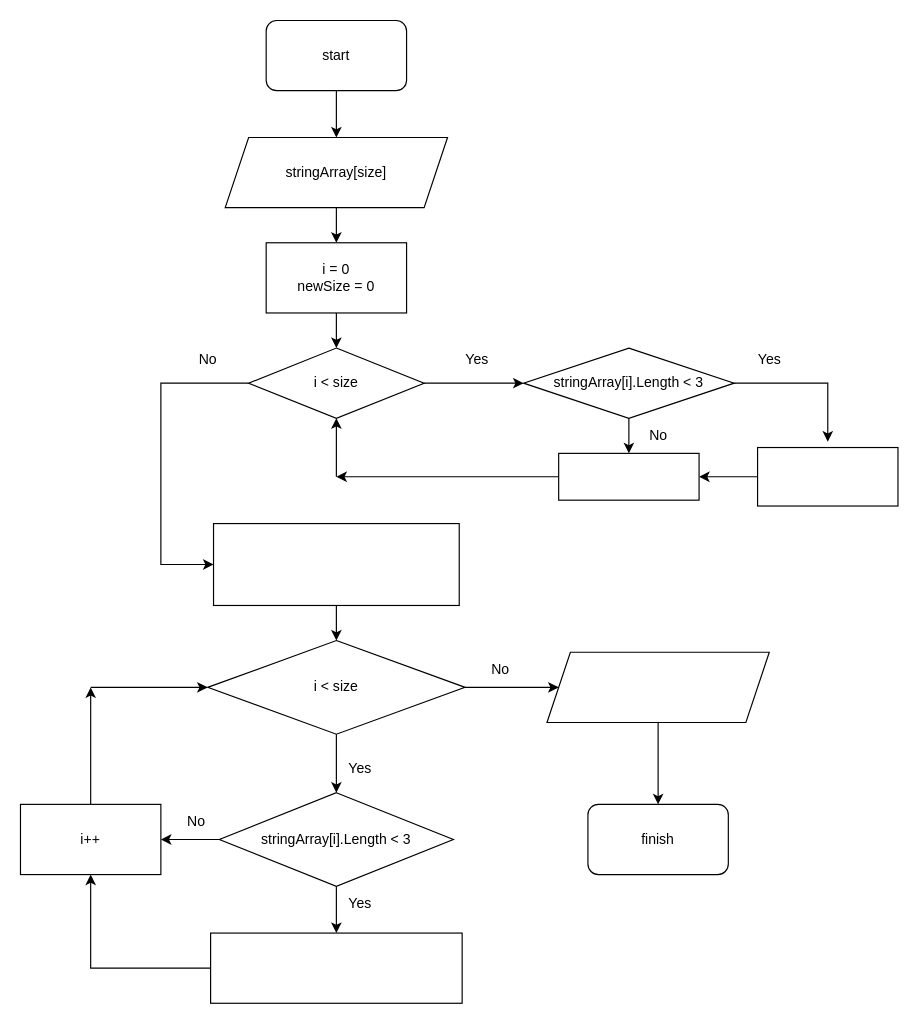
Some shapes in this 918 by 1024 pixel diagram are drawn without their labels. The centre of each missing label's shape, as x and y in pixels:
i ++: the point at 628,476
i=0 newArray[newSize] k=0: the point at 335,563
newArray[]: the point at 657,686
newArray[k]=stringArray[i] k++: the point at 335,967
newSize ++: the point at 827,476
